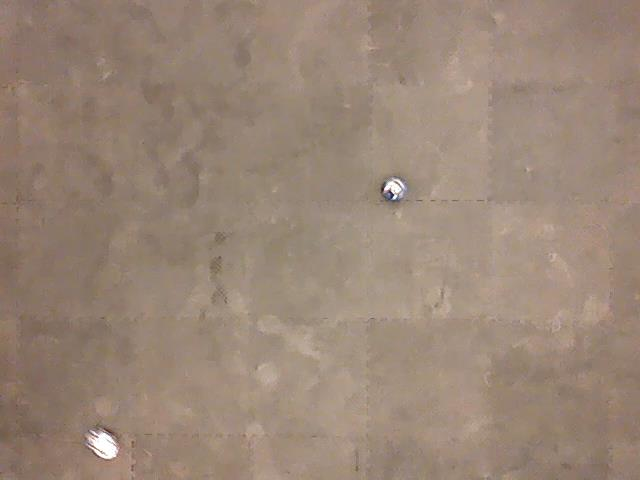Agent: (82, 423, 121, 462), (378, 174, 410, 205)
